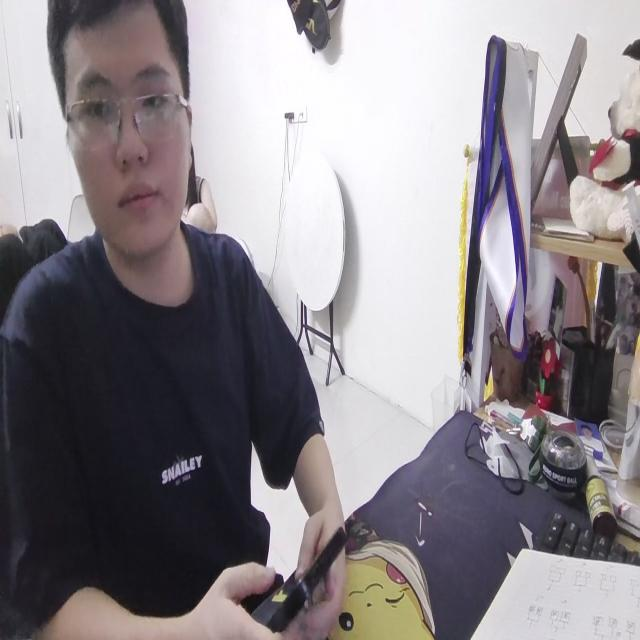book: (470, 533, 640, 640)
phone: (264, 522, 350, 628)
student: (2, 0, 348, 640)
